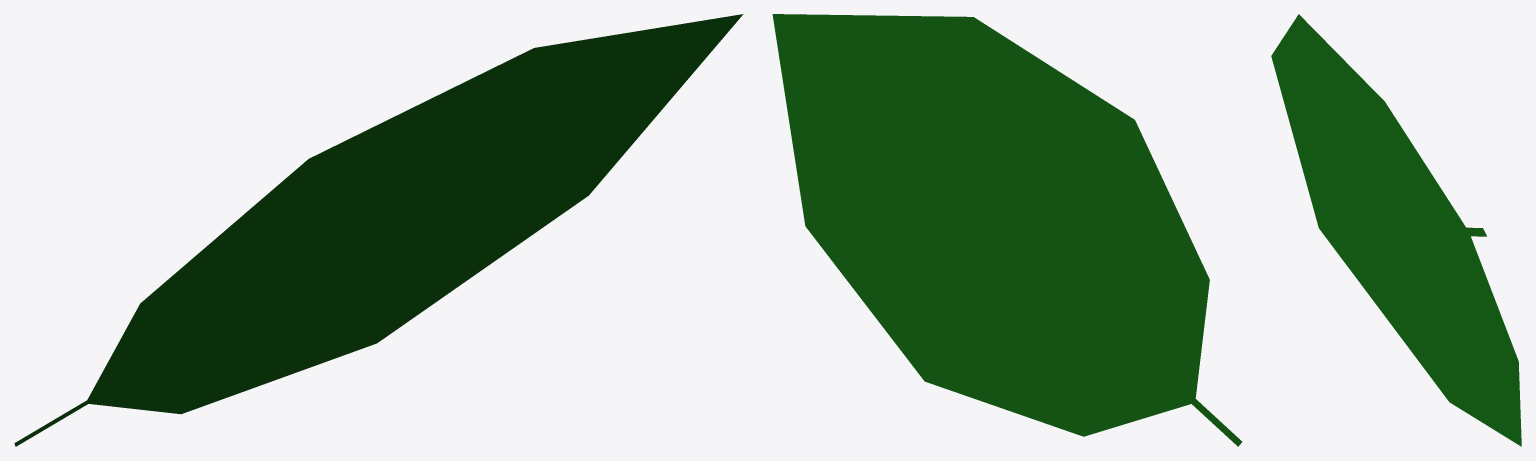
File: Leaves.007.obj
The picture shows the model from 3 angles, left to right: view 1: azimuth 30°, elevation 25°; view 2: azimuth 150°, elevation 25°; view 3: azimuth 270°, elevation 25°; orthographic projection. The views are drawn at different scales.
Parts seen in each view (by area): view 1: Leaves.007_leaves.007; view 2: Leaves.007_leaves.007; view 3: Leaves.007_leaves.007.
Boxes of the visible parts, <box> form: Leaves.007_leaves.007: <box>14,14,743,446</box>; Leaves.007_leaves.007: <box>772,14,1242,446</box>; Leaves.007_leaves.007: <box>1271,14,1521,446</box>.
Size of the model in its own units: 0.134 by 0.075 by 0.0385.
